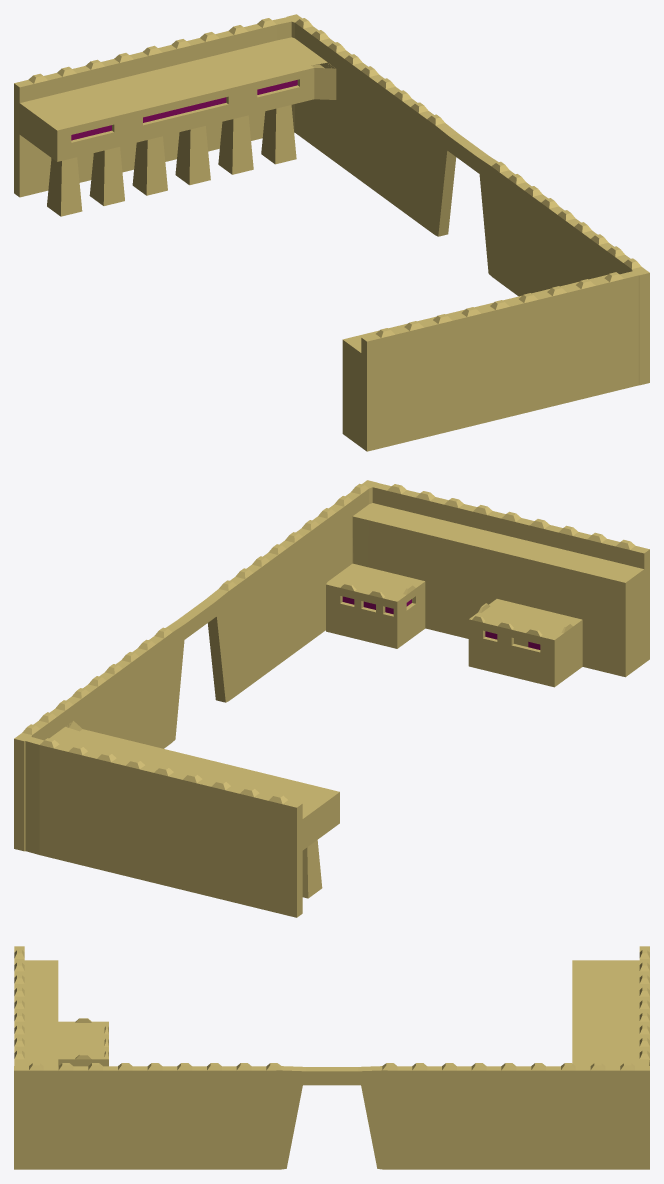
File: troie.fbx
3 renders of one model, top to bottom at view 1: azimuth 30°, elevation 25°; view 2: azimuth 150°, elevation 25°; view 3: azimuth 270°, elevation 25°, orthographic. The views are drawn at different scales.
Parts seen in each view (by area): view 1: Cube.002; view 2: Cube.002; view 3: Cube.002.
Part boxes in pixels (left/top/right/bottom): Cube.002: left=14, top=14, right=649, bottom=451; Cube.002: left=14, top=480, right=649, bottom=917; Cube.002: left=14, top=946, right=649, bottom=1169.
Size of the model in its own units: 1745 by 676 by 3775.
